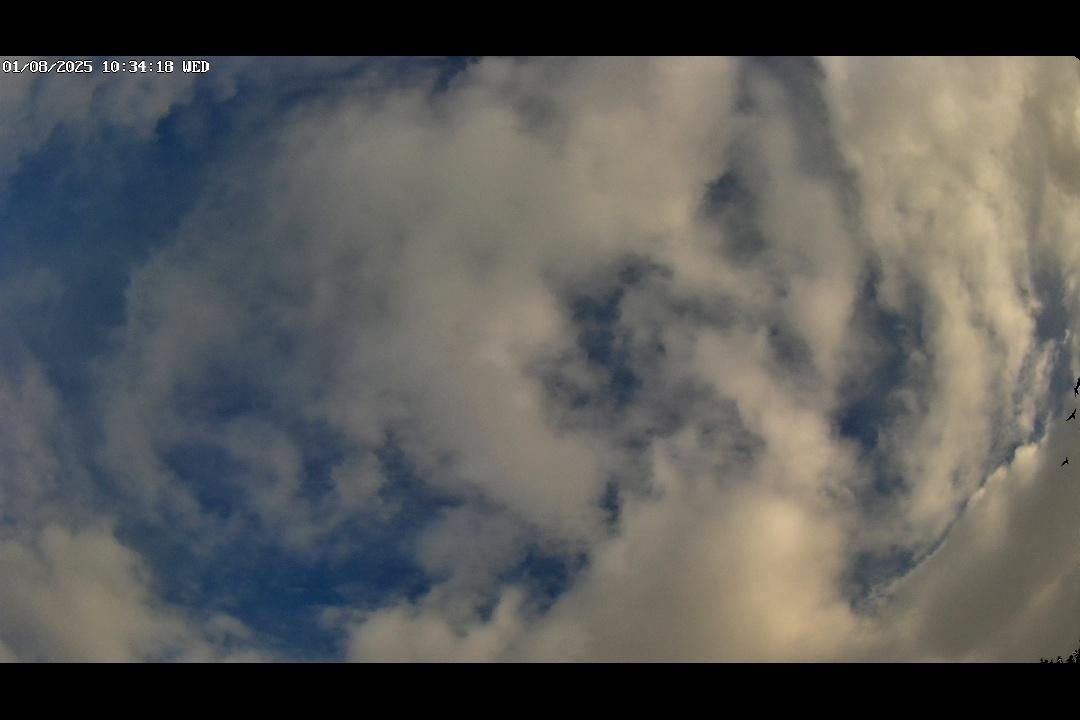WildLife: (1064, 402, 1080, 427), (1067, 371, 1080, 399), (1052, 455, 1077, 469)
